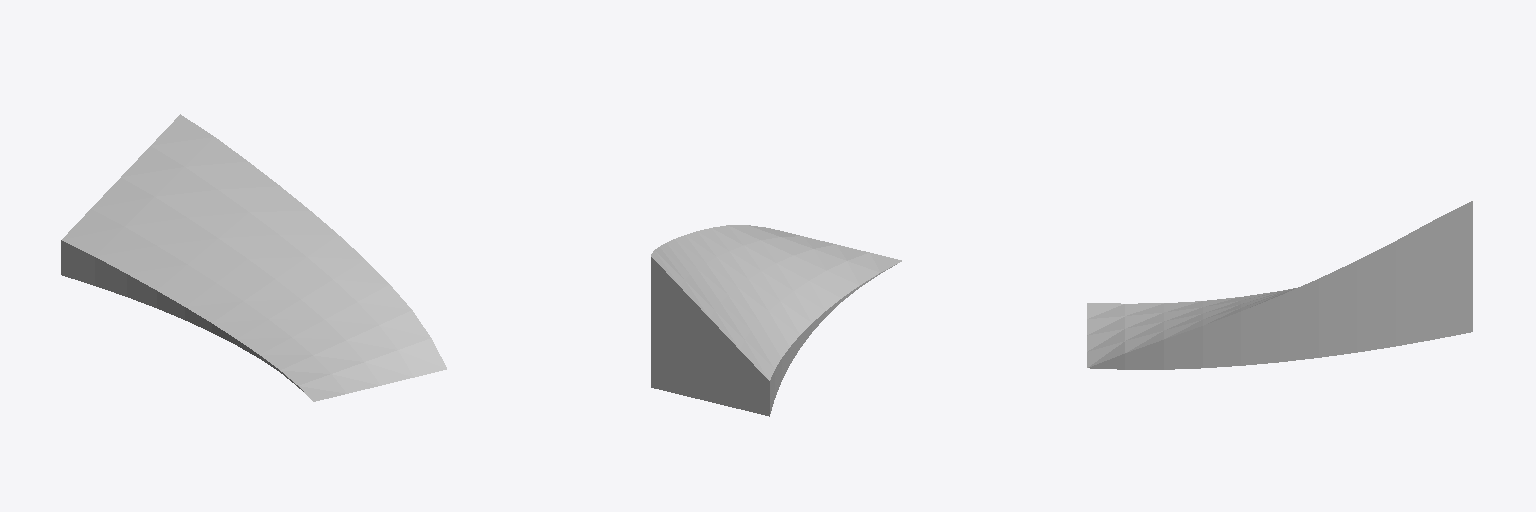
Rendered from curved_ramp_V5_R.obj.
The picture shows the model from 3 angles: view 1: azimuth 30°, elevation 25°; view 2: azimuth 150°, elevation 25°; view 3: azimuth 270°, elevation 25°; orthographic projection.
Parts seen in each view (by area): view 1: Cube.001; view 2: Cube.001; view 3: Cube.001.
Part boxes in pixels (x1,y1,x2,y2): Cube.001: (61,114,446,401); Cube.001: (651,225,901,416); Cube.001: (1087,201,1472,369).
Bounding box in the file's own units: 1.17 × 0.7535 × 2.